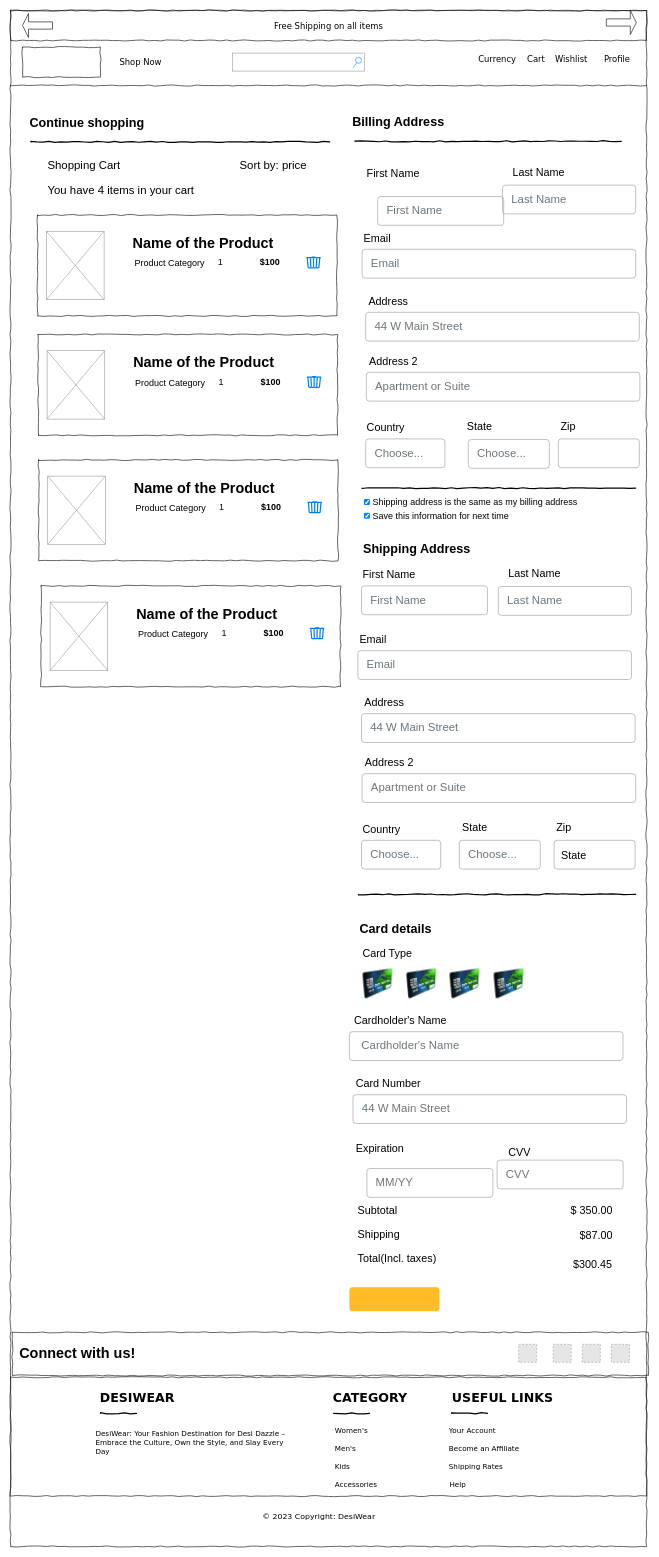
Some shapes in this 659 by 1557 pixel diagram are drawn without their labels. Grey dashed boxes stand in for pictures. The centre of each missing label's shape, as x and y in pixels:
LOGO: pixel 61 61
Pay Now: pixel 394 1299
Search: pixel 298 61
